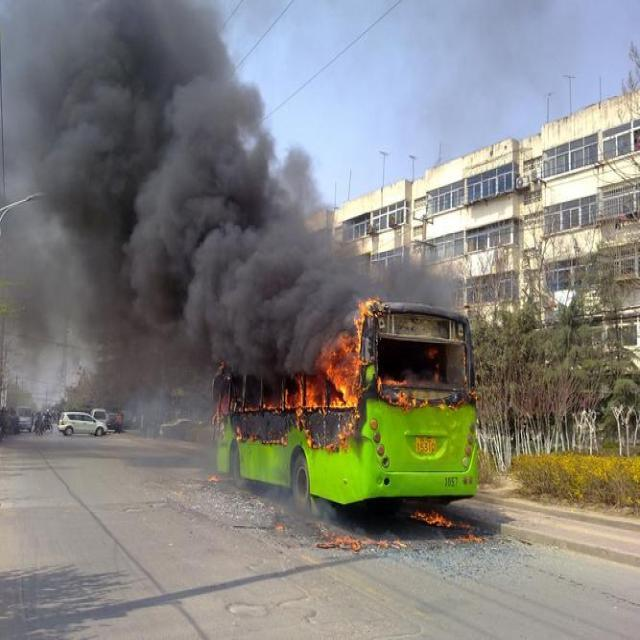Fire: (296, 338, 361, 415)
Smoke: (0, 0, 320, 370), (322, 213, 458, 308)
